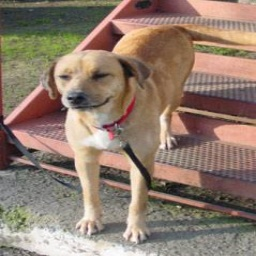dog: (39, 26, 202, 244)
